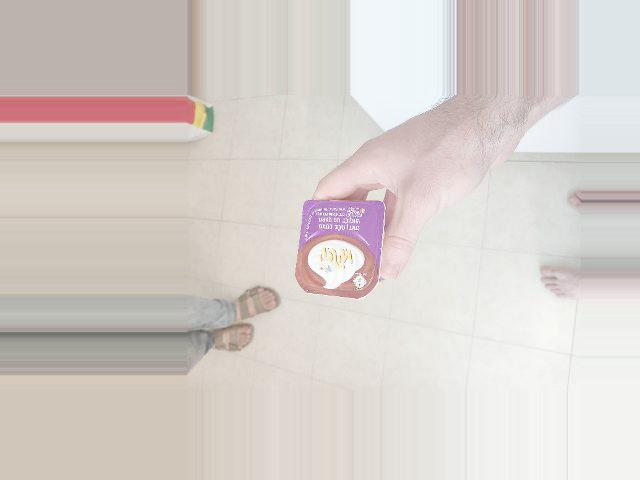milky: (275, 204, 369, 315)
